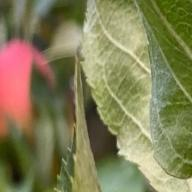Apples: (0, 39, 55, 141)
